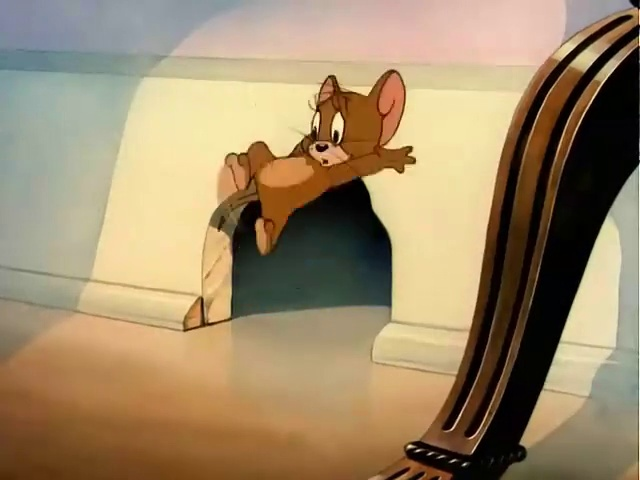jerry: (183, 47, 436, 277)
